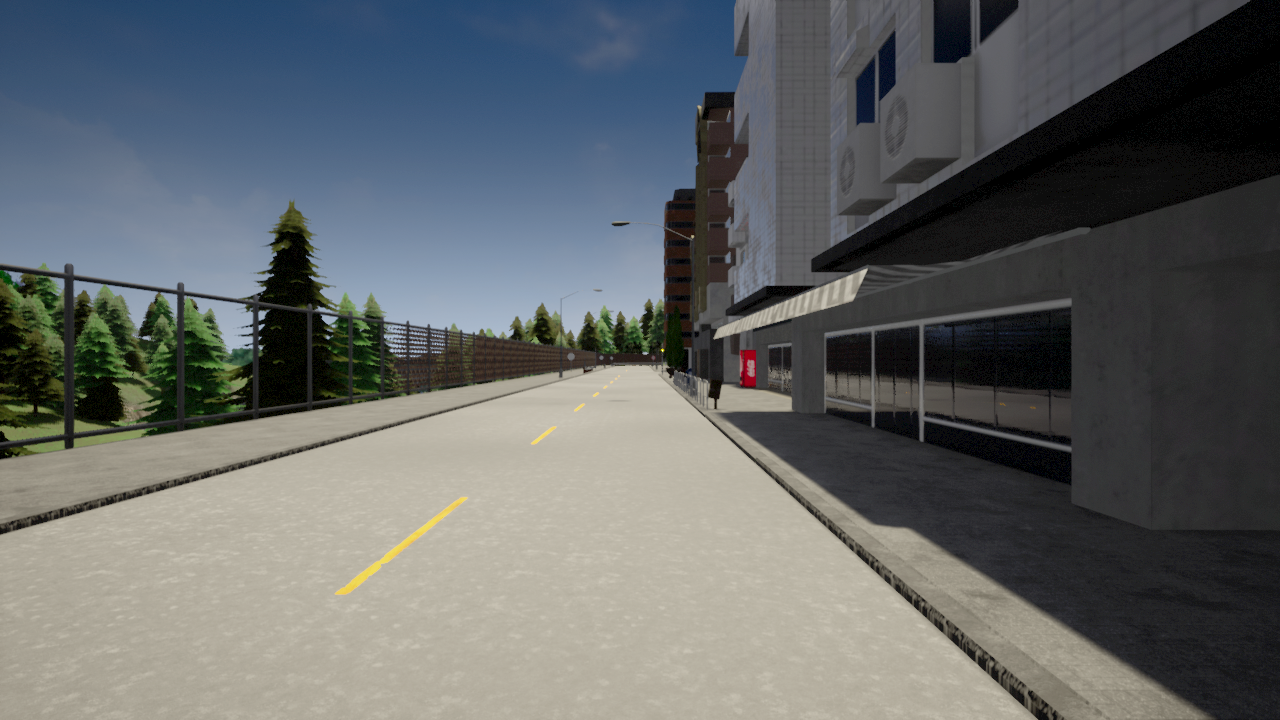yellow: (660, 346, 665, 356)
